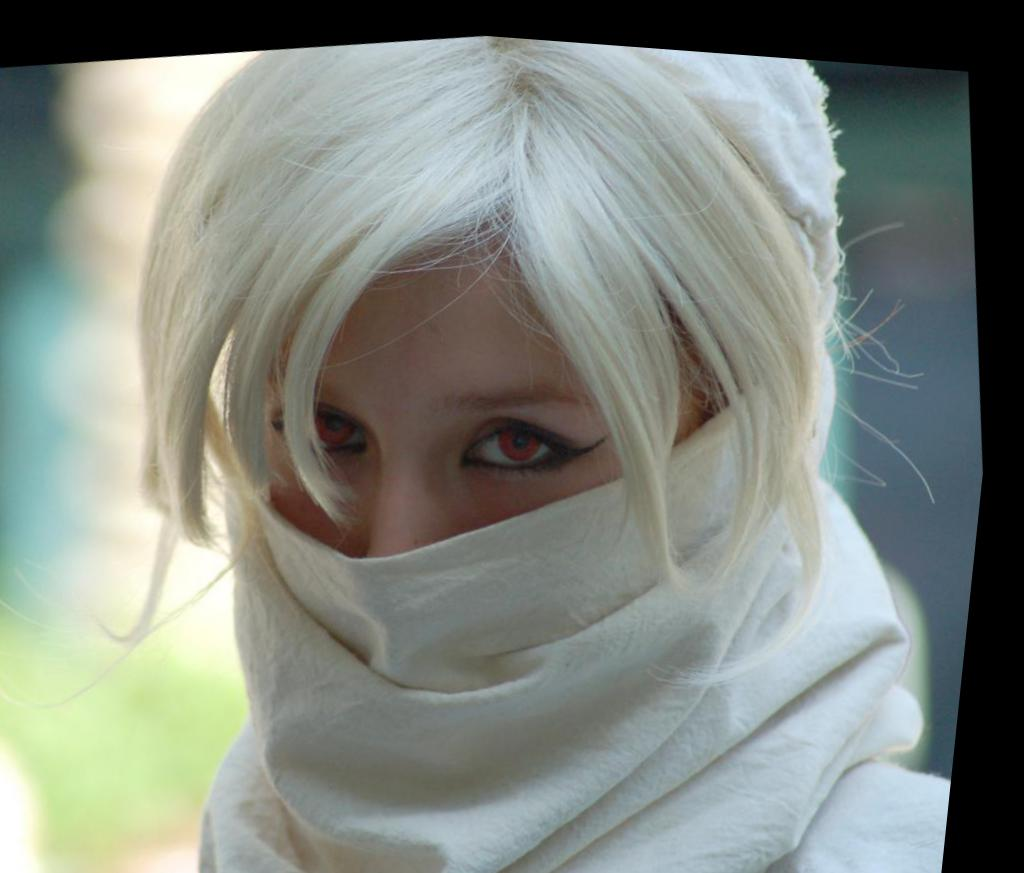WRONG: (171, 181, 796, 815)
